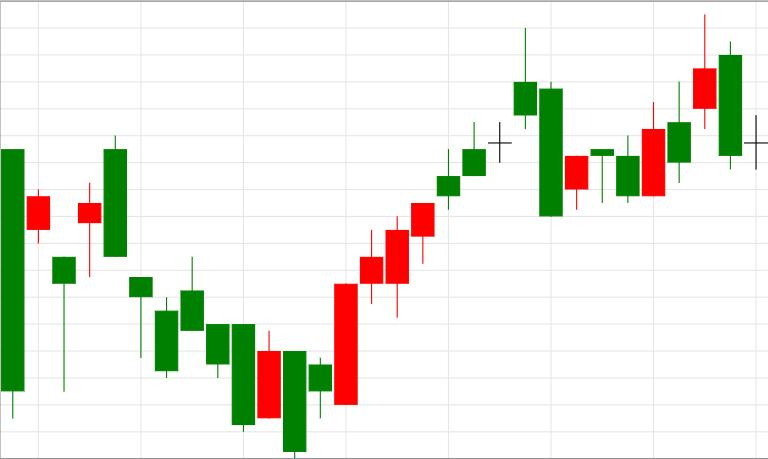shooting_star_fall: (386, 27, 537, 318)
